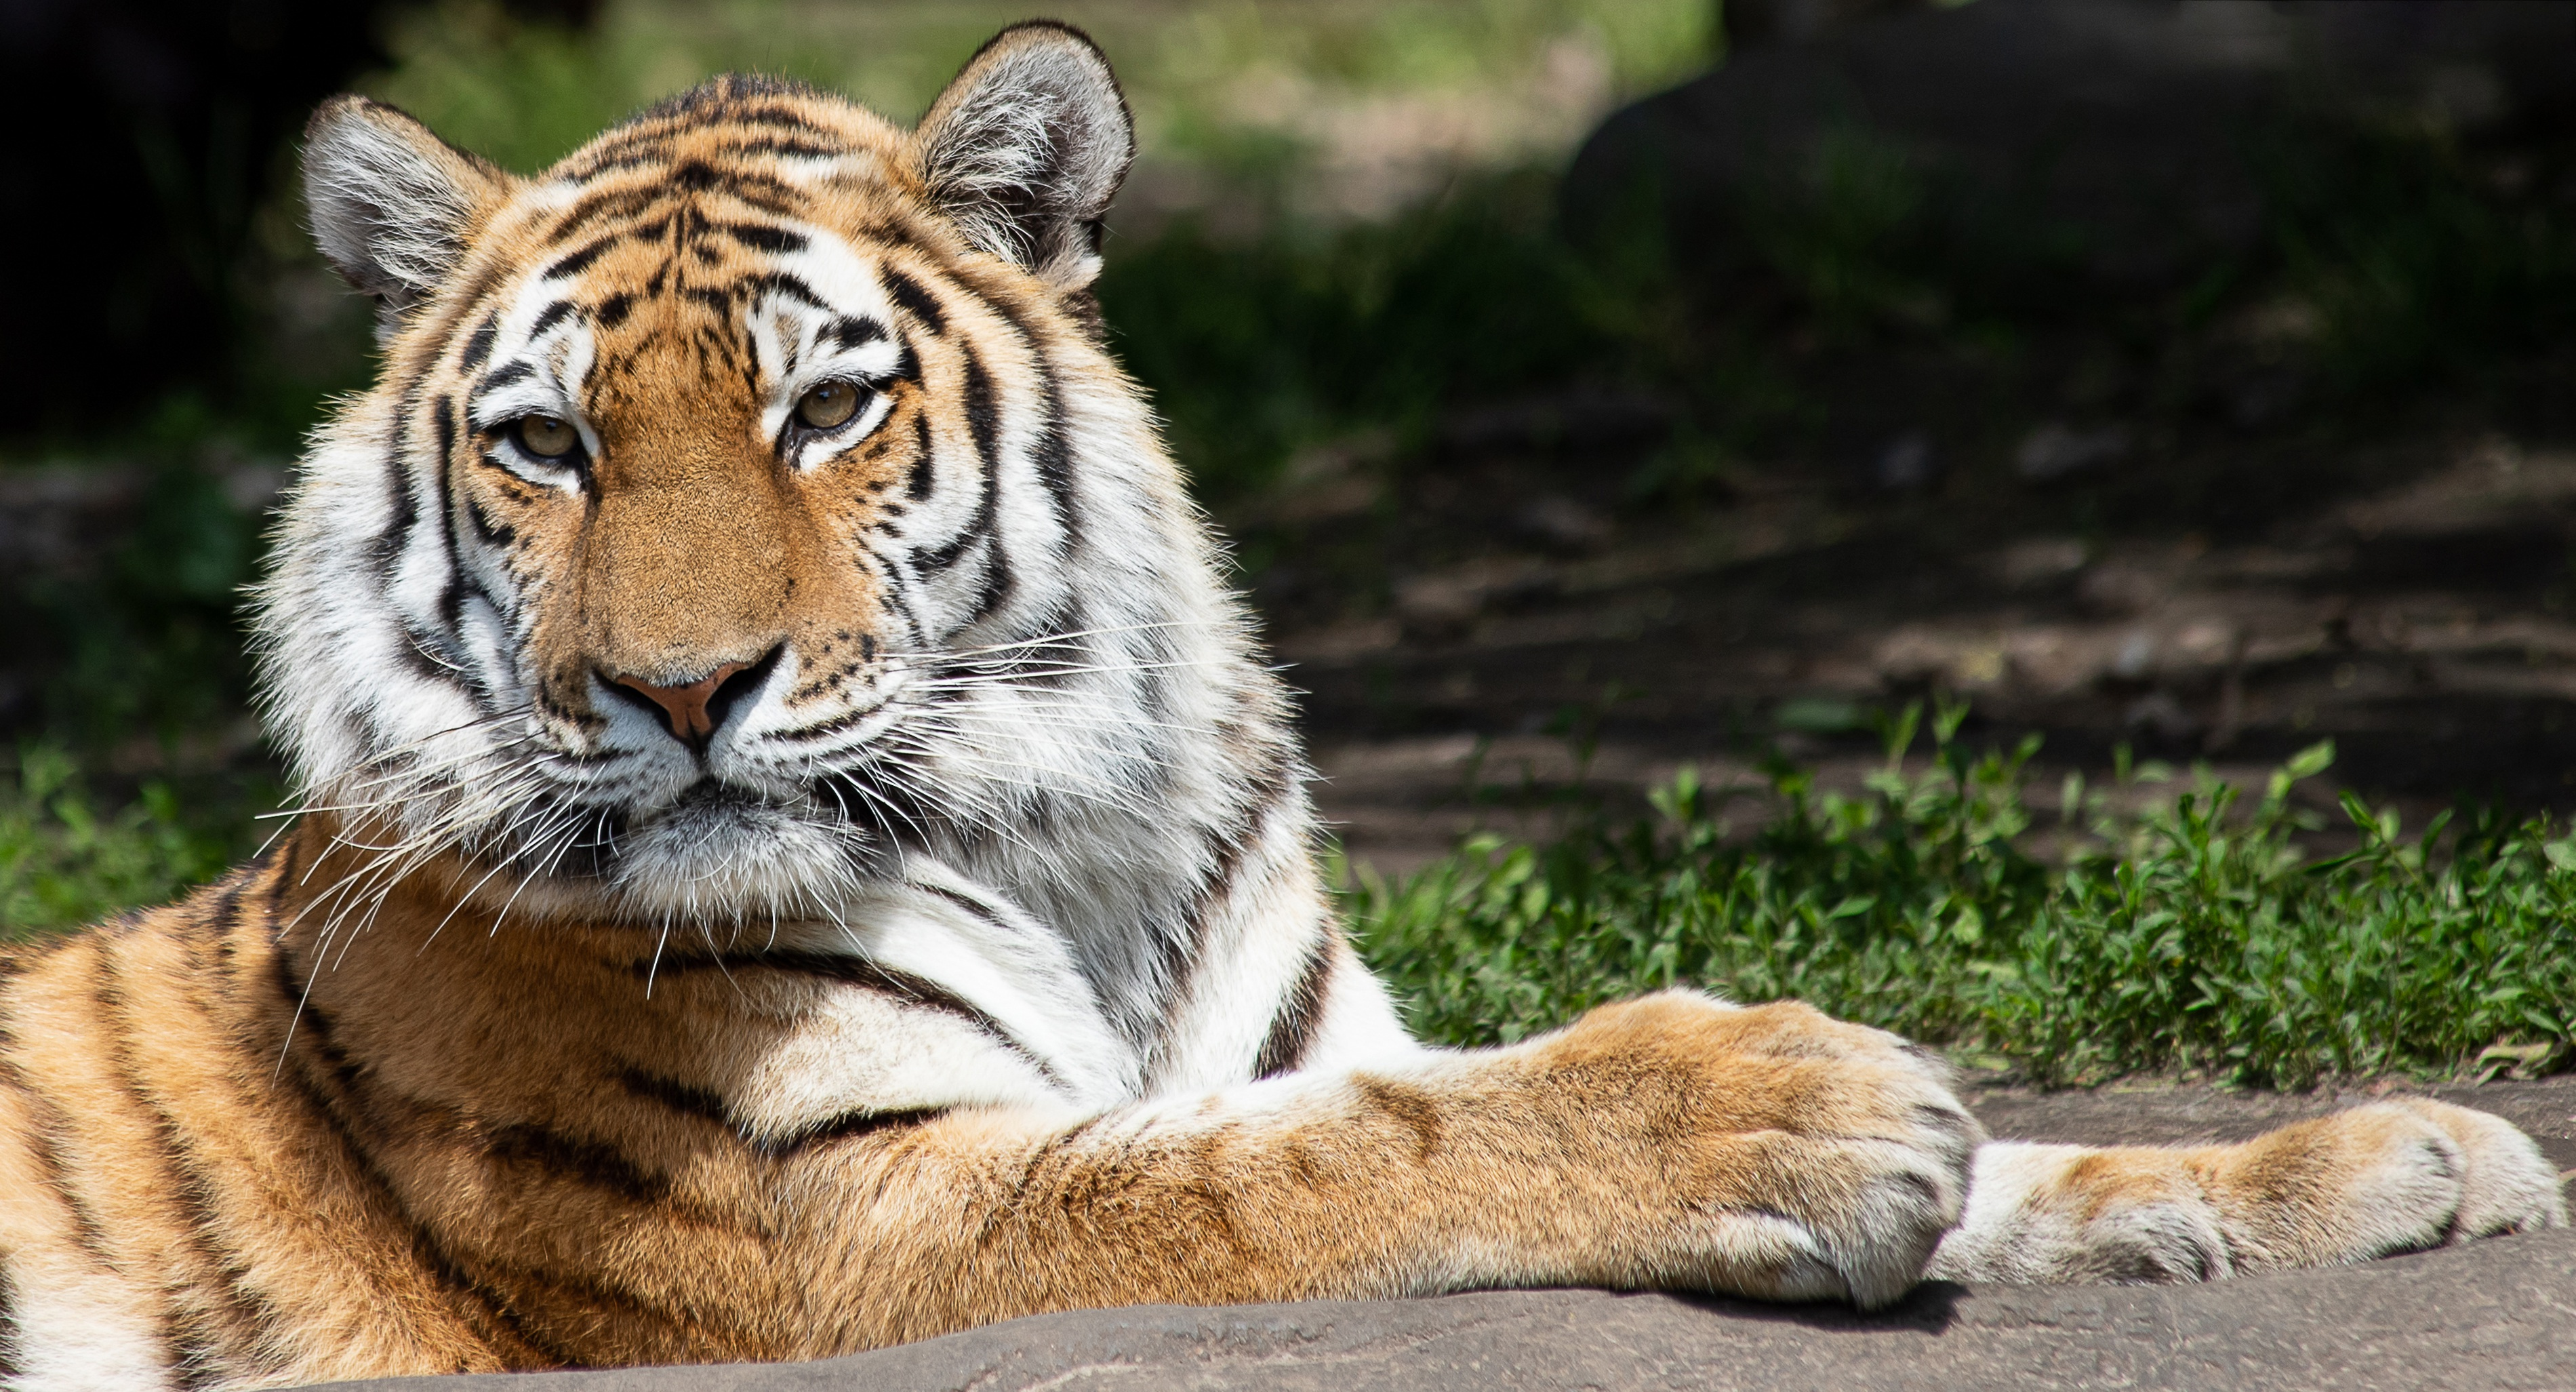tiger: (65, 36, 2576, 1392)
